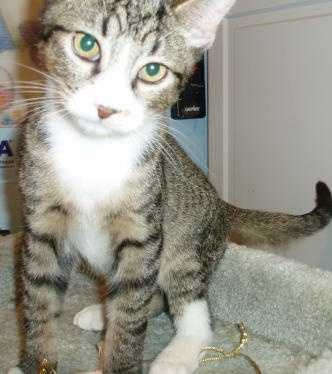Cat: (16, 27, 331, 373)
